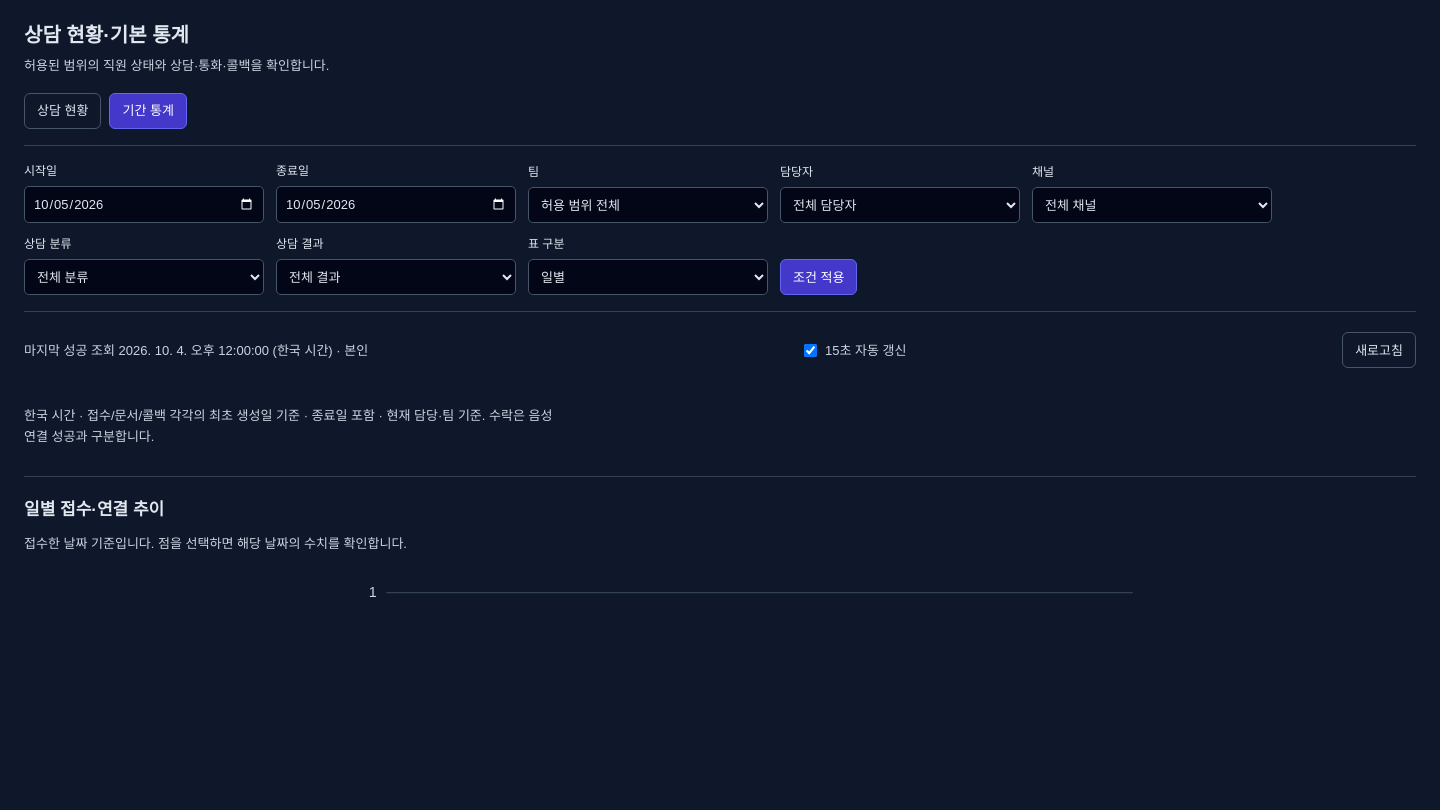
Scenario: 권한별 상담 통계 › 갱신 장애는 마지막 결과를 보존하고 재시도로 복구한다
Click the button "새로고침" at [1379, 350], box [1342,332,1416,368]
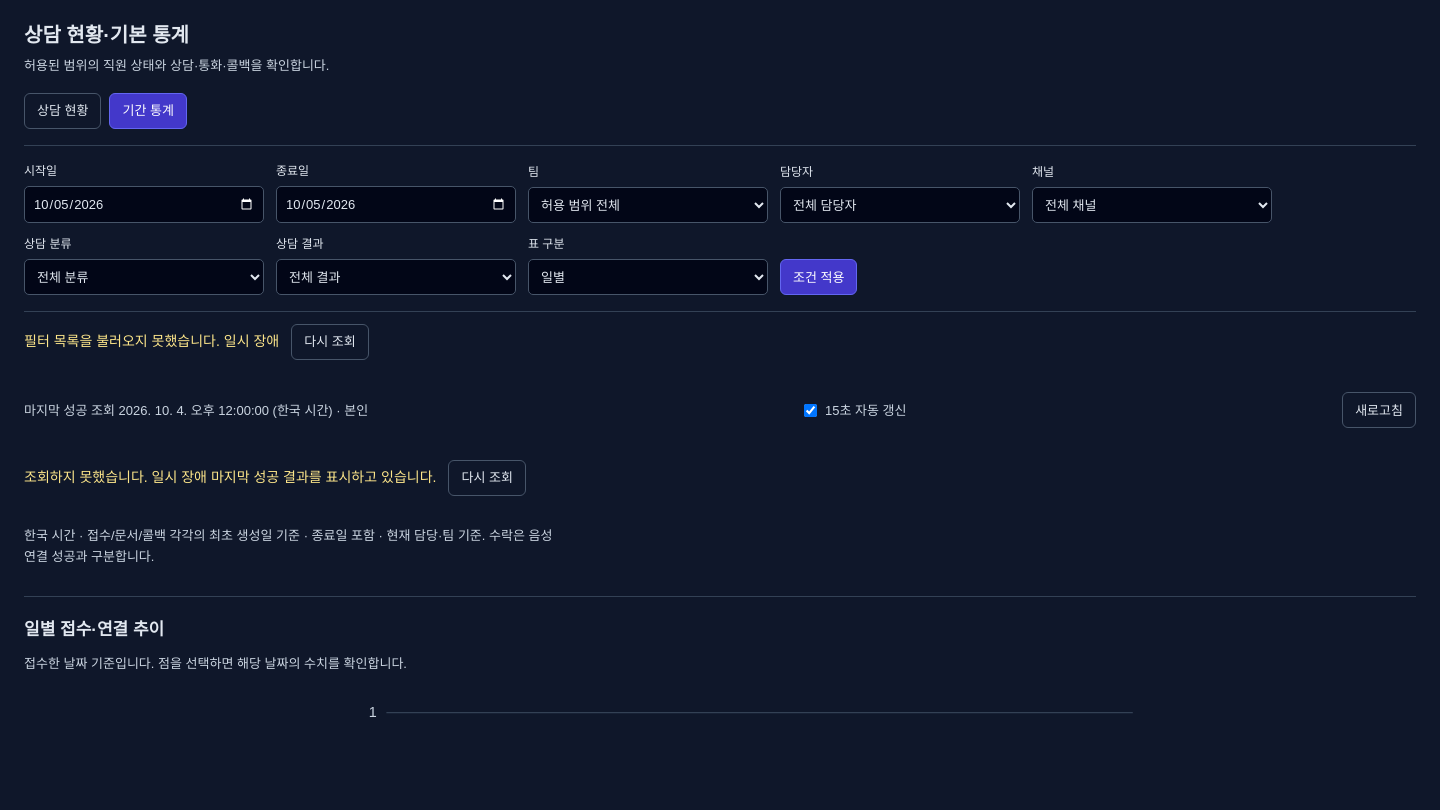
Check: the text "조회하지 못했습니다. 일시 장애 마지막 성공 결과를 표시하고 있습니다. 다시 조회" is shown, box [24,448,608,508]
Click the button "다시 조회" in the row of "필터 목록을 불러오지 못했습니다." at [330, 342], box [291,324,369,360]
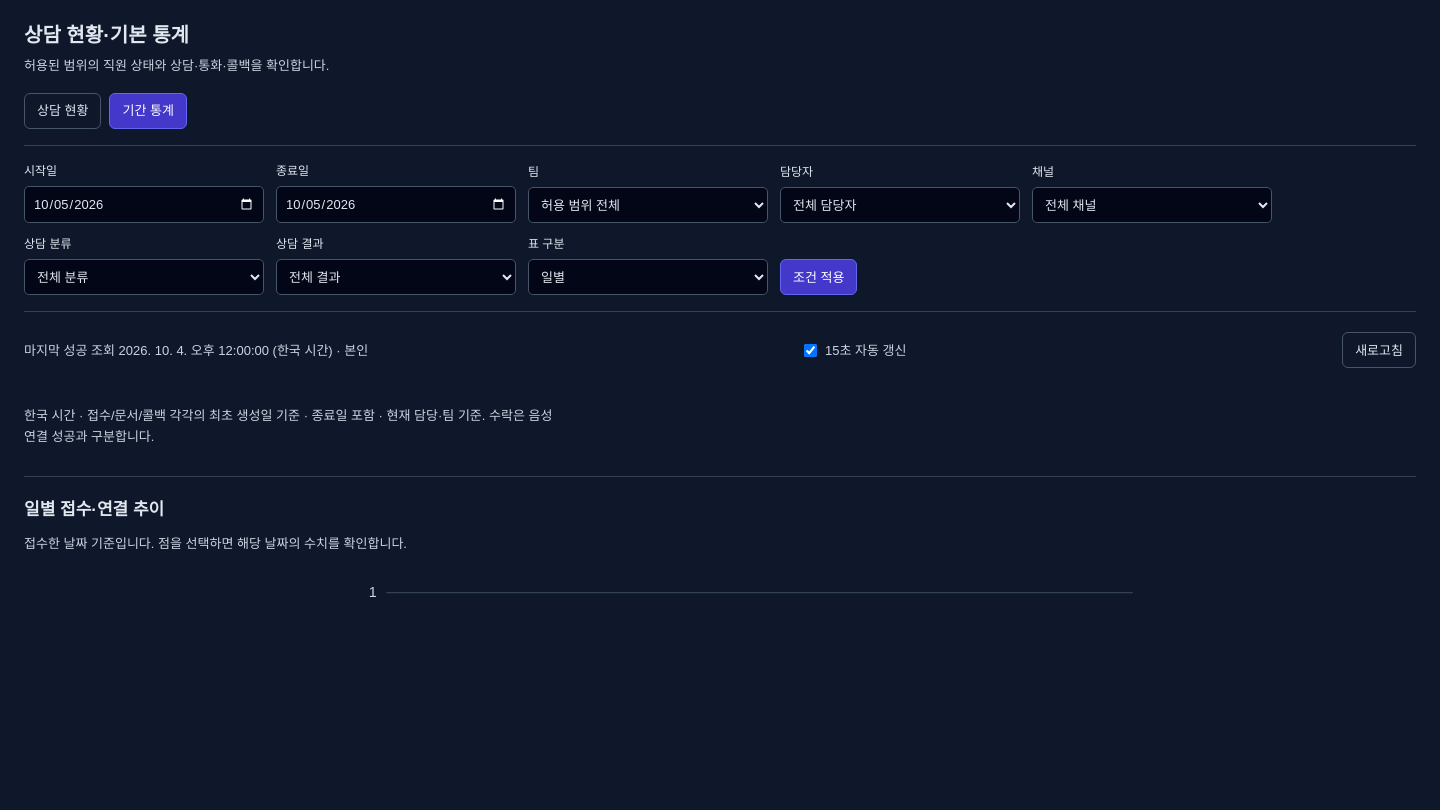
Check: the text "마지막 성공 결과를 표시" is gone
